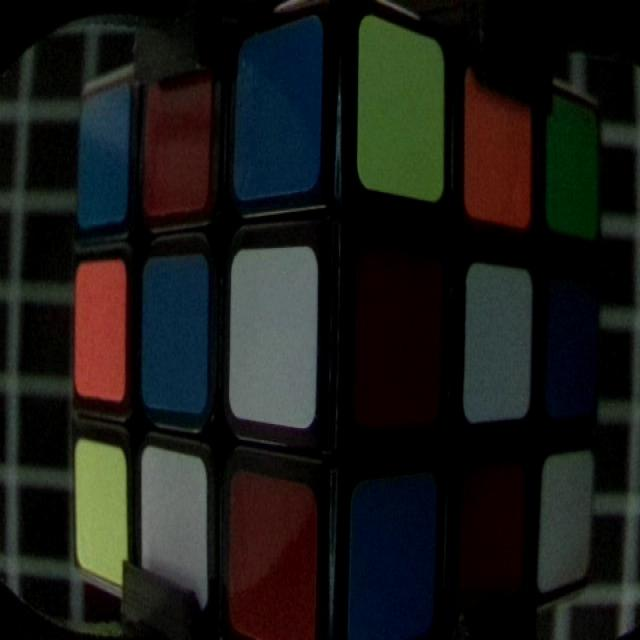b: (239, 36, 315, 192), (353, 485, 427, 632), (144, 259, 202, 405), (79, 104, 125, 223), (556, 286, 591, 410)
o: (464, 74, 527, 218), (77, 263, 117, 393)
r: (231, 480, 312, 625), (366, 273, 432, 412), (457, 464, 522, 600), (146, 75, 208, 212)
w: (232, 257, 313, 419), (465, 265, 533, 419), (141, 452, 207, 599), (544, 458, 588, 582)
y: (365, 20, 438, 191), (75, 442, 127, 574)
